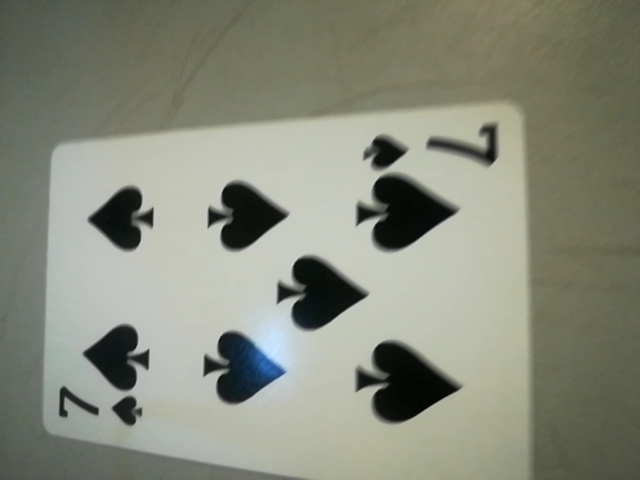ht 7: (360, 119, 513, 180)
